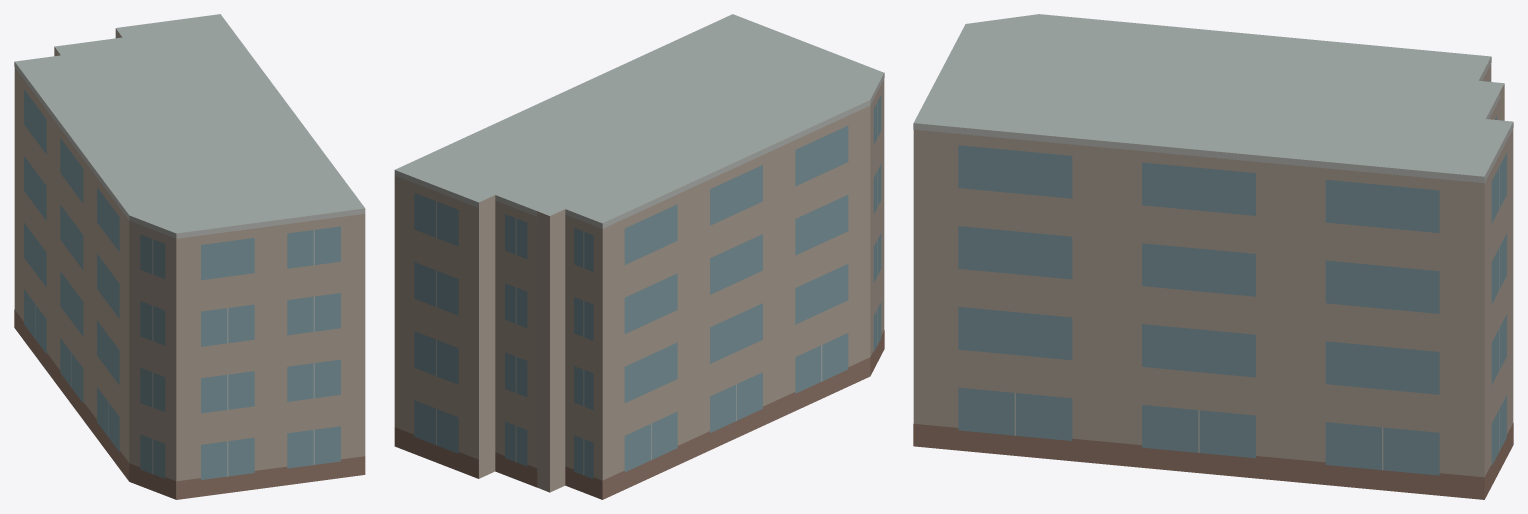
Rendered from residential-d1ec0c40-1201-42c1-861c-43fa44ac8520.glb.
3 renders of one model, left to right at view 1: azimuth 30°, elevation 25°; view 2: azimuth 150°, elevation 25°; view 3: azimuth 270°, elevation 25°, orthographic. The views are drawn at different scales.
Visible parts, largest first — view 1: residential-d1ec0c40-1201-42c1-861c-43fa44ac8520.tmp; view 2: residential-d1ec0c40-1201-42c1-861c-43fa44ac8520.tmp; view 3: residential-d1ec0c40-1201-42c1-861c-43fa44ac8520.tmp.
Part boxes in pixels (x1,y1,x2,y2): residential-d1ec0c40-1201-42c1-861c-43fa44ac8520.tmp: [14, 14, 365, 499]; residential-d1ec0c40-1201-42c1-861c-43fa44ac8520.tmp: [394, 14, 884, 499]; residential-d1ec0c40-1201-42c1-861c-43fa44ac8520.tmp: [913, 14, 1513, 499].
Size of the model in its own units: 13.18 by 12.2 by 20.54.
